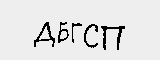Б: (56, 20, 71, 43)
Г: (71, 22, 81, 43)
Д: (34, 22, 56, 49)
П: (101, 24, 124, 50)
С: (84, 23, 100, 49)
